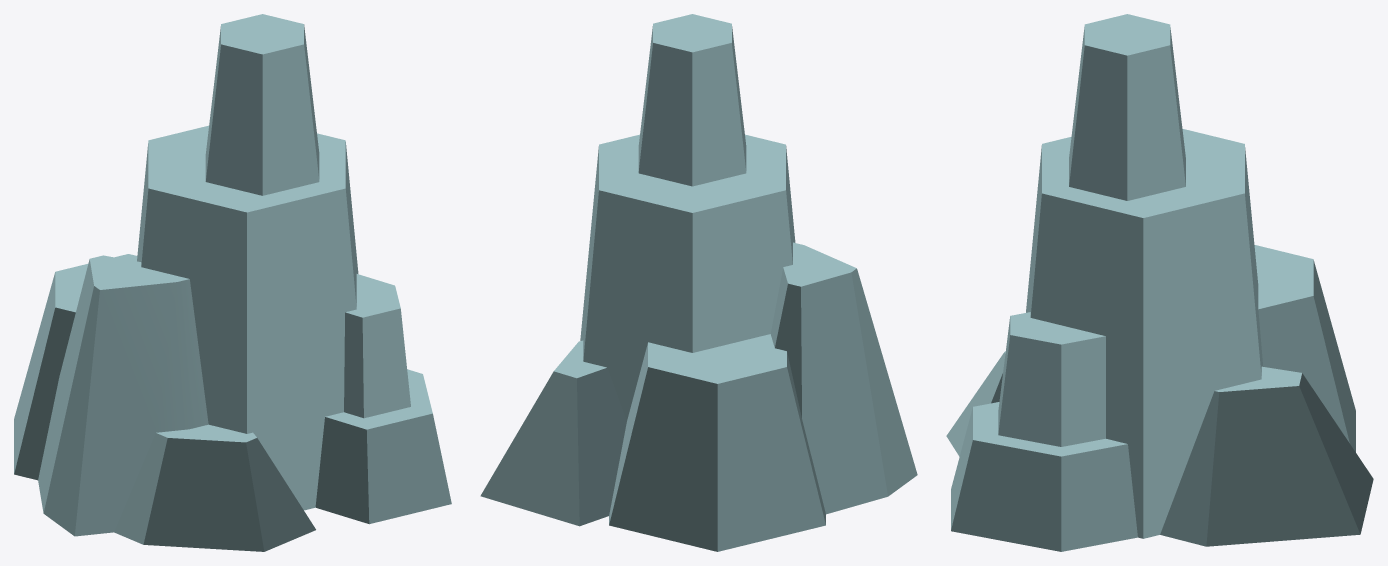
The model's file is stone_tall2.obj.
3 renders of one model, left to right at view 1: azimuth 30°, elevation 25°; view 2: azimuth 150°, elevation 25°; view 3: azimuth 270°, elevation 25°, orthographic. The views are drawn at different scales.
Parts seen in each view (by area): view 1: stone_tall2; view 2: stone_tall2; view 3: stone_tall2.
Part boxes in pixels (x1,y1,x2,y2): stone_tall2: (14, 14, 451, 551); stone_tall2: (480, 14, 917, 551); stone_tall2: (946, 14, 1373, 551).
Bounding box in the file's own units: 7.65 × 8.84 × 7.7.
